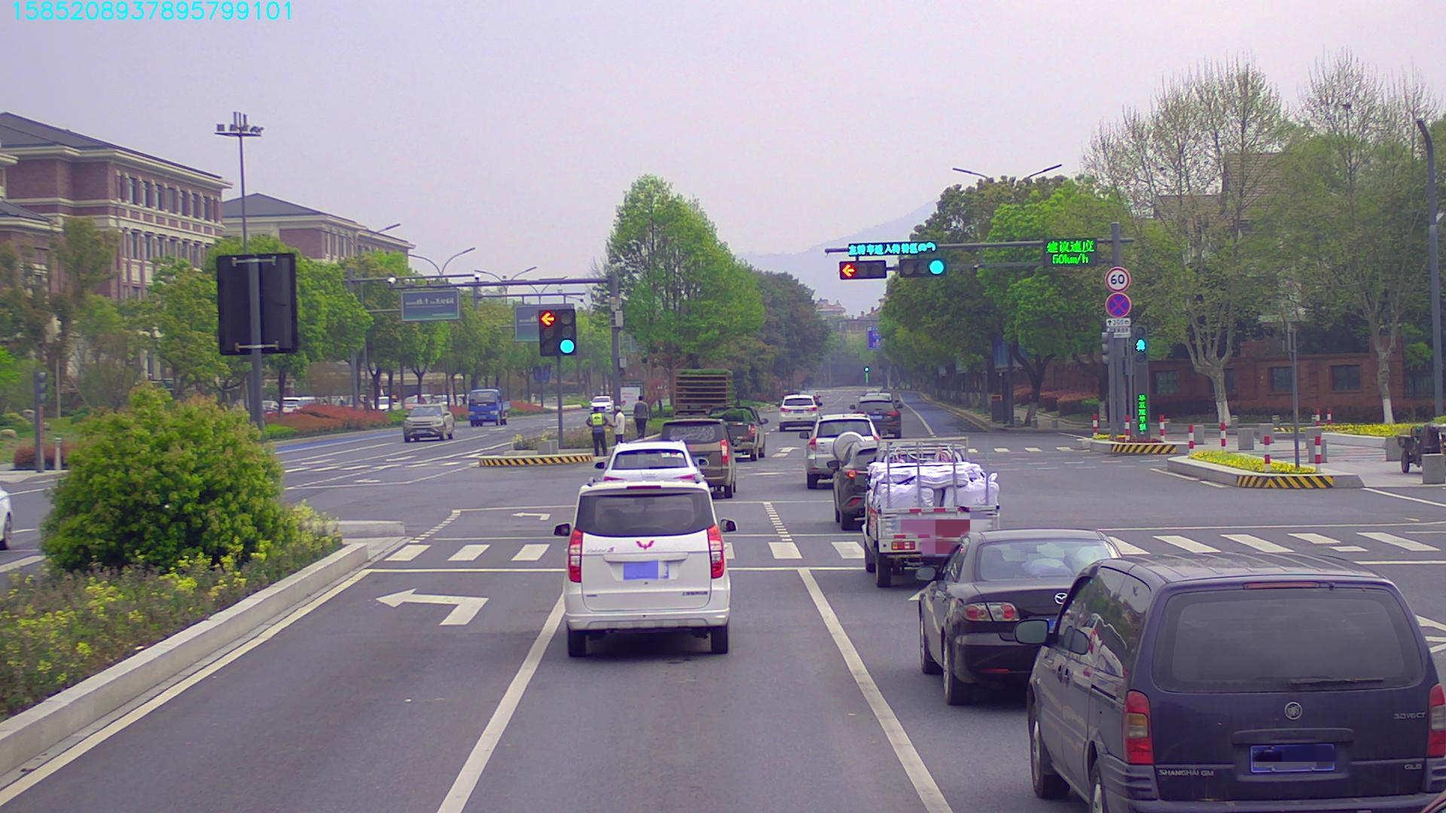green: (903, 257, 945, 278)
red: (839, 260, 884, 278)
wait_on: (848, 242, 944, 257)
